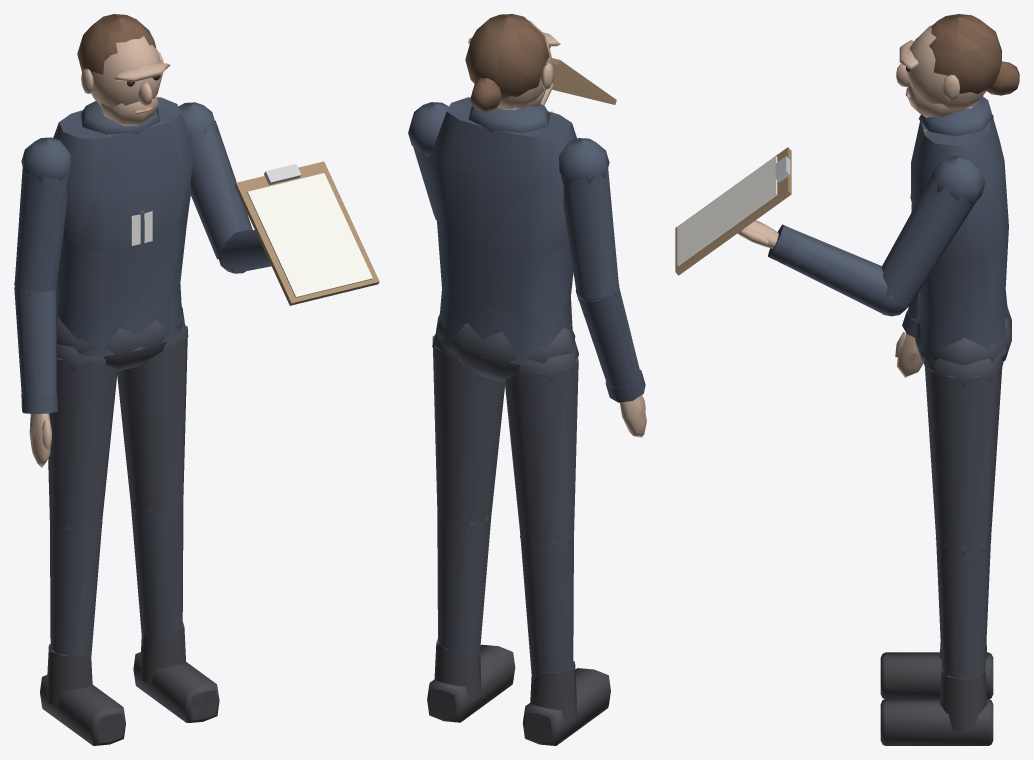
File: rennick_standing_a_clipboard.glb
3 views of the same model, side by side, from view 1: azimuth 30°, elevation 25°; view 2: azimuth 150°, elevation 25°; view 3: azimuth 270°, elevation 25° (orthographic). The views are drawn at different scales.
Parts seen in each view (by area): view 1: body; view 2: body; view 3: body.
Boxes of the visible parts, x1,y1,x2,y2 form: body: (14,14,379,745); body: (408,14,646,745); body: (675,14,1019,745).
Bounding box in the file's own units: 0.6137 × 1.72 × 0.7648.
